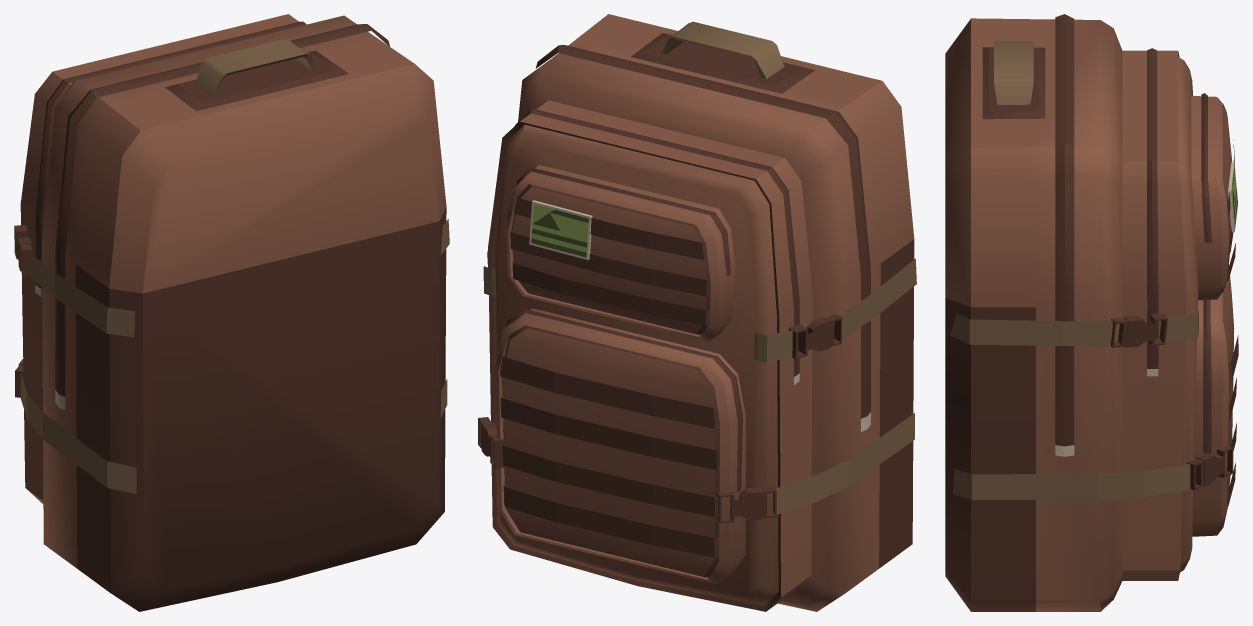
The model's file is MilitaryBackpack.glb.
3 renders of one model, left to right at view 1: azimuth 30°, elevation 25°; view 2: azimuth 150°, elevation 25°; view 3: azimuth 270°, elevation 25°, orthographic. The views are drawn at different scales.
Parts seen in each view (by area): view 1: MilitaryBackpack; view 2: MilitaryBackpack; view 3: MilitaryBackpack.
Part boxes in pixels (left/top/right/bottom): MilitaryBackpack: left=14, top=14, right=449, bottom=611; MilitaryBackpack: left=478, top=14, right=916, bottom=611; MilitaryBackpack: left=945, top=14, right=1238, bottom=611.
Bounding box in the file's own units: 0.0177 × 0.0245 × 0.0133.
Materials: 1 (1 with a texture image).
